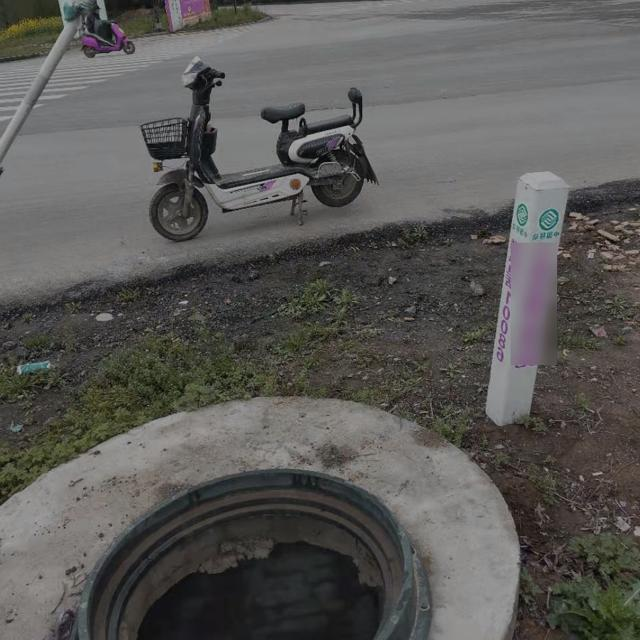lose: (64, 470, 436, 640)
